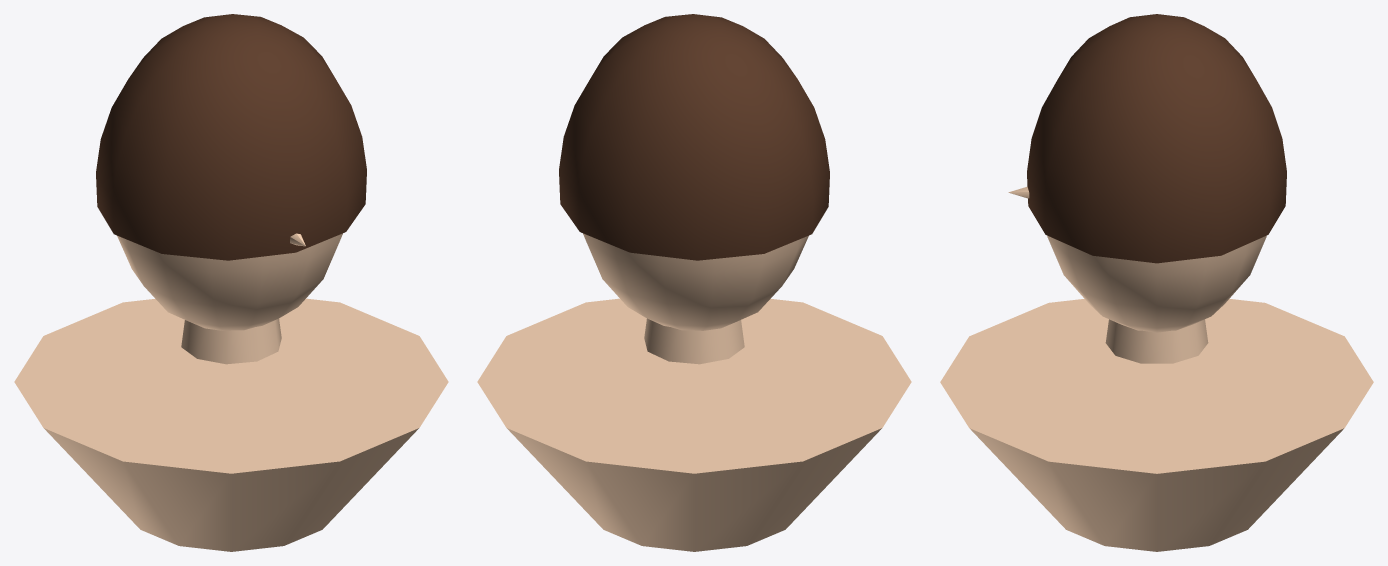
Rendered from raw_001.glb.
3 views of the same model, side by side, from view 1: azimuth 30°, elevation 25°; view 2: azimuth 150°, elevation 25°; view 3: azimuth 270°, elevation 25° (orthographic).
Bounding box in the file's own units: 1.78 × 2.18 × 1.78.
